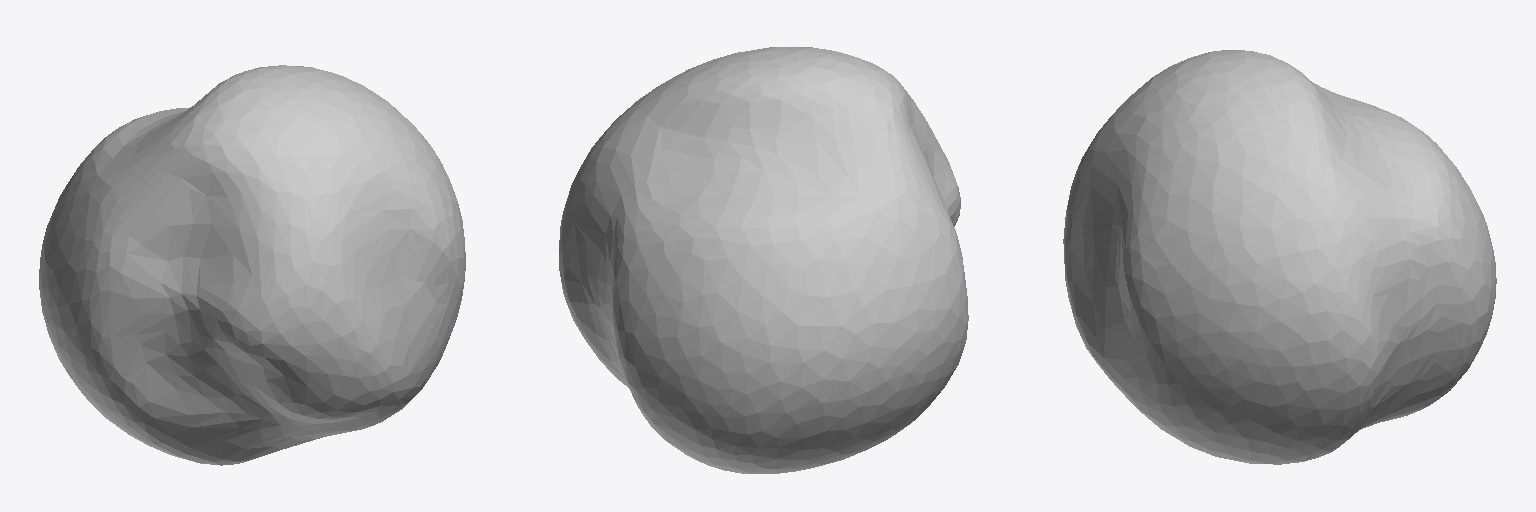
File: moon_4.obj
3 renders of one model, left to right at view 1: azimuth 30°, elevation 25°; view 2: azimuth 150°, elevation 25°; view 3: azimuth 270°, elevation 25°, orthographic.
Bounding box in the file's own units: 11.32 × 10.8 × 11.46.